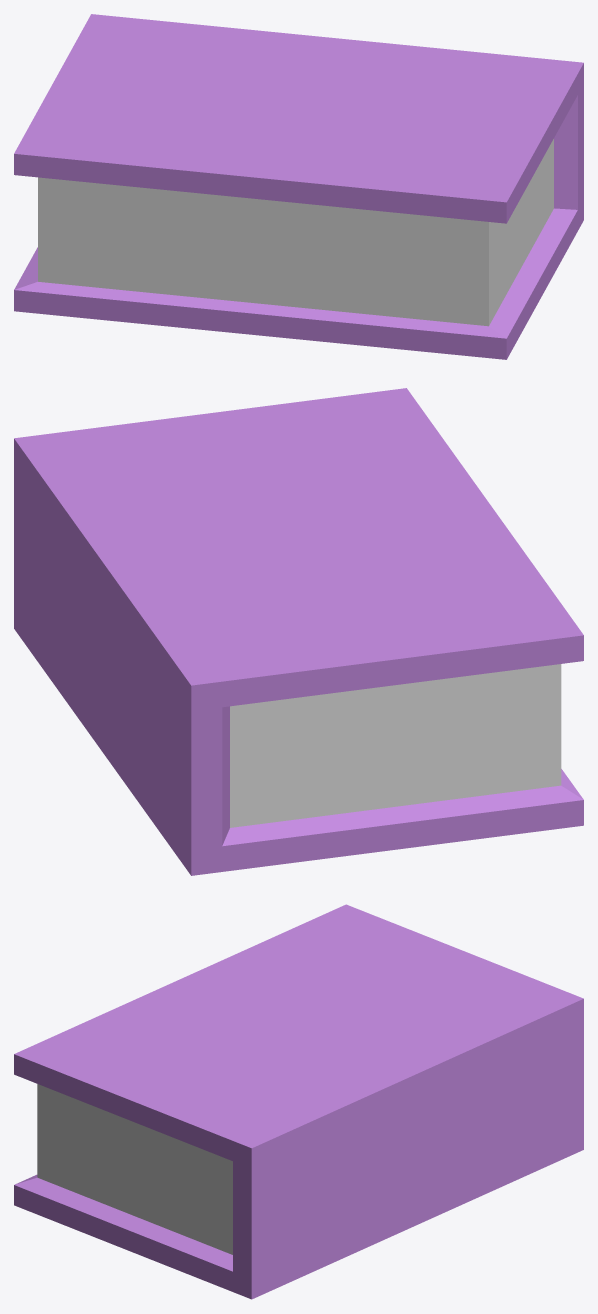
The model's file is Libros.009.fbx.
The picture shows the model from 3 angles, top to bottom: view 1: azimuth 30°, elevation 25°; view 2: azimuth 150°, elevation 25°; view 3: azimuth 270°, elevation 25°; orthographic projection. The views are drawn at different scales.
Visible parts, largest first — view 1: Libros.009; view 2: Libros.009; view 3: Libros.009.
Part boxes in pixels (left/top/right/bottom): Libros.009: left=14, top=14, right=583, bottom=359; Libros.009: left=14, top=388, right=583, bottom=875; Libros.009: left=14, top=904, right=583, bottom=1299.
Bounding box in the file's own units: 48.64 × 14.06 × 48.03.
